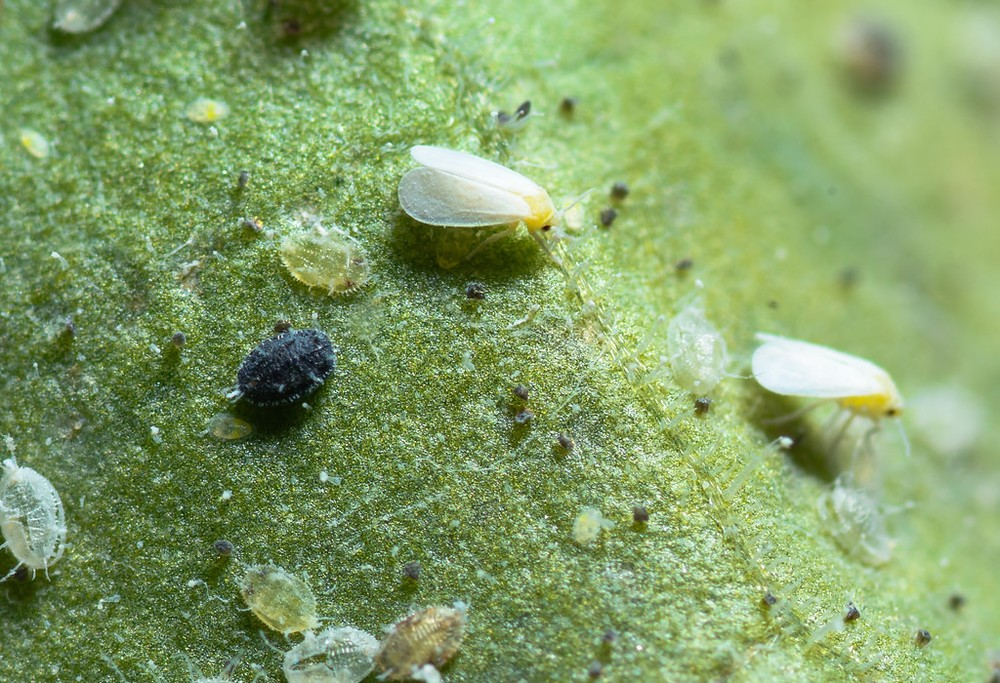Mosca Blanca: (376, 129, 593, 296), (742, 322, 939, 498)
